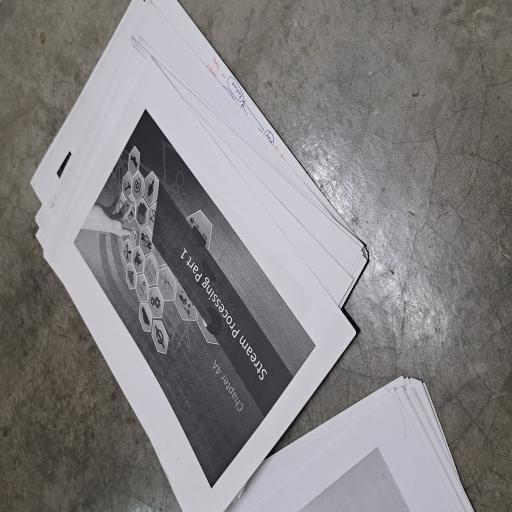paper: (0, 37, 384, 495), (0, 312, 102, 512)
